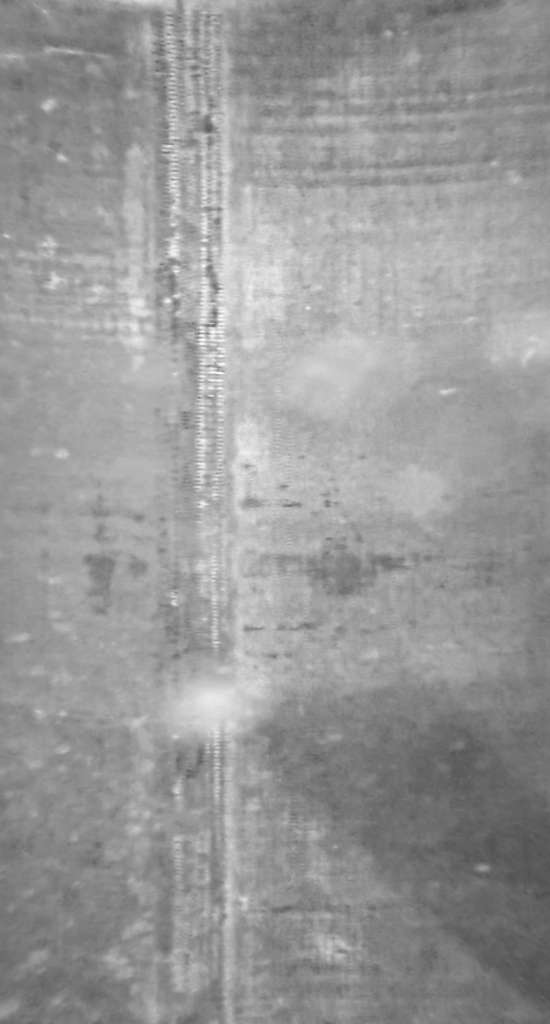splice: (143, 1, 241, 1024)
